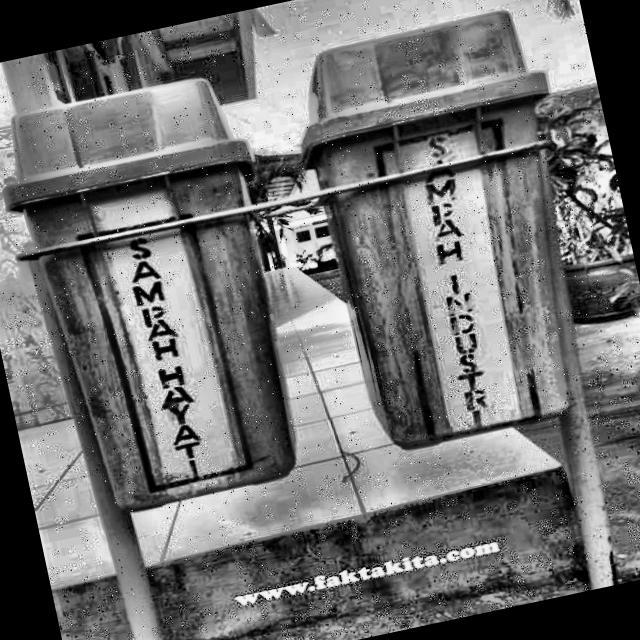Dustbin: (0, 55, 354, 544), (291, 0, 640, 470)
